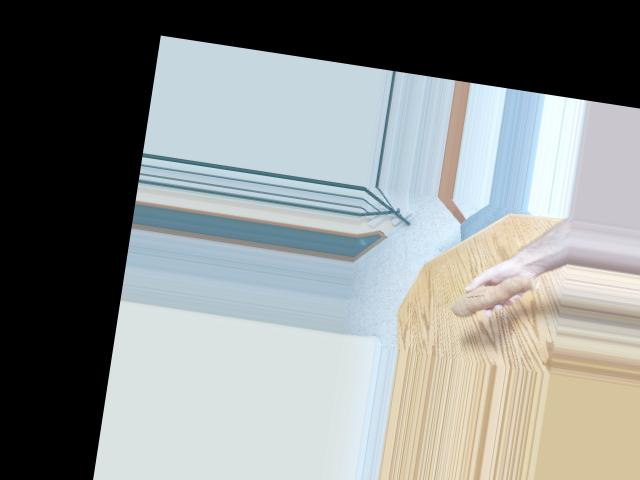sweet_potato: (447, 259, 542, 328)
